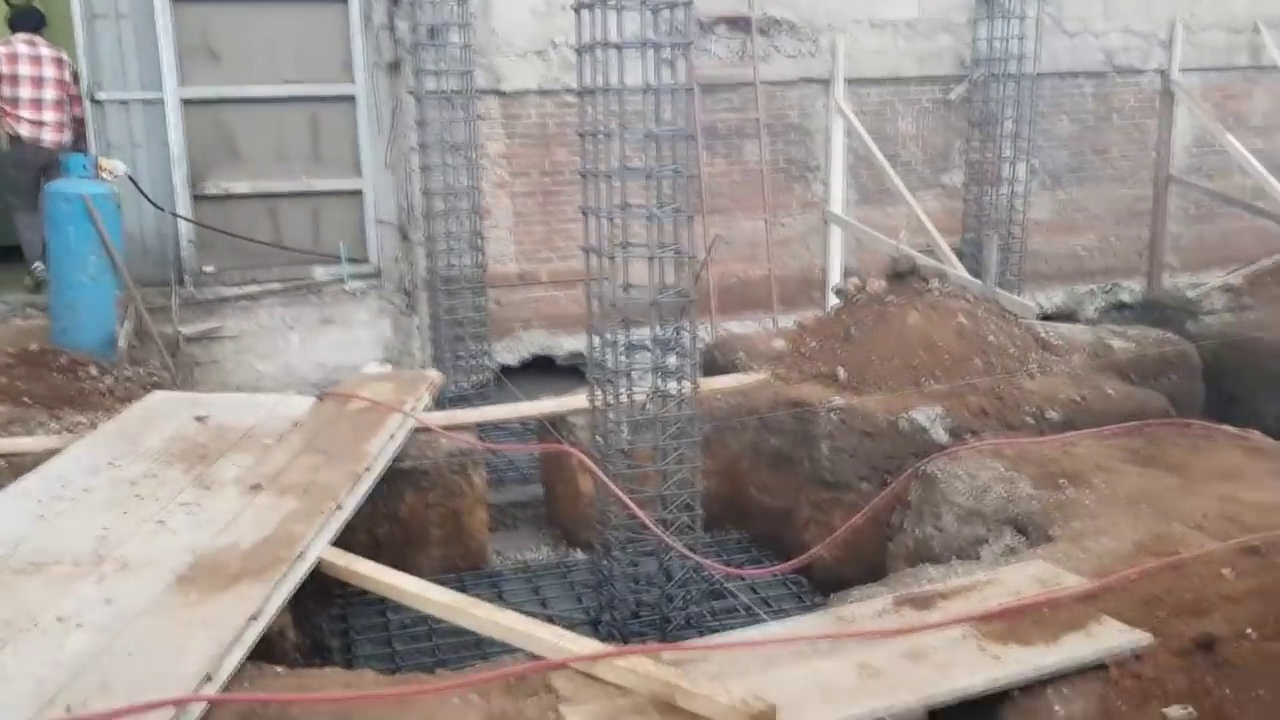helmet-off: (10, 3, 46, 37)
person: (1, 0, 78, 309)
